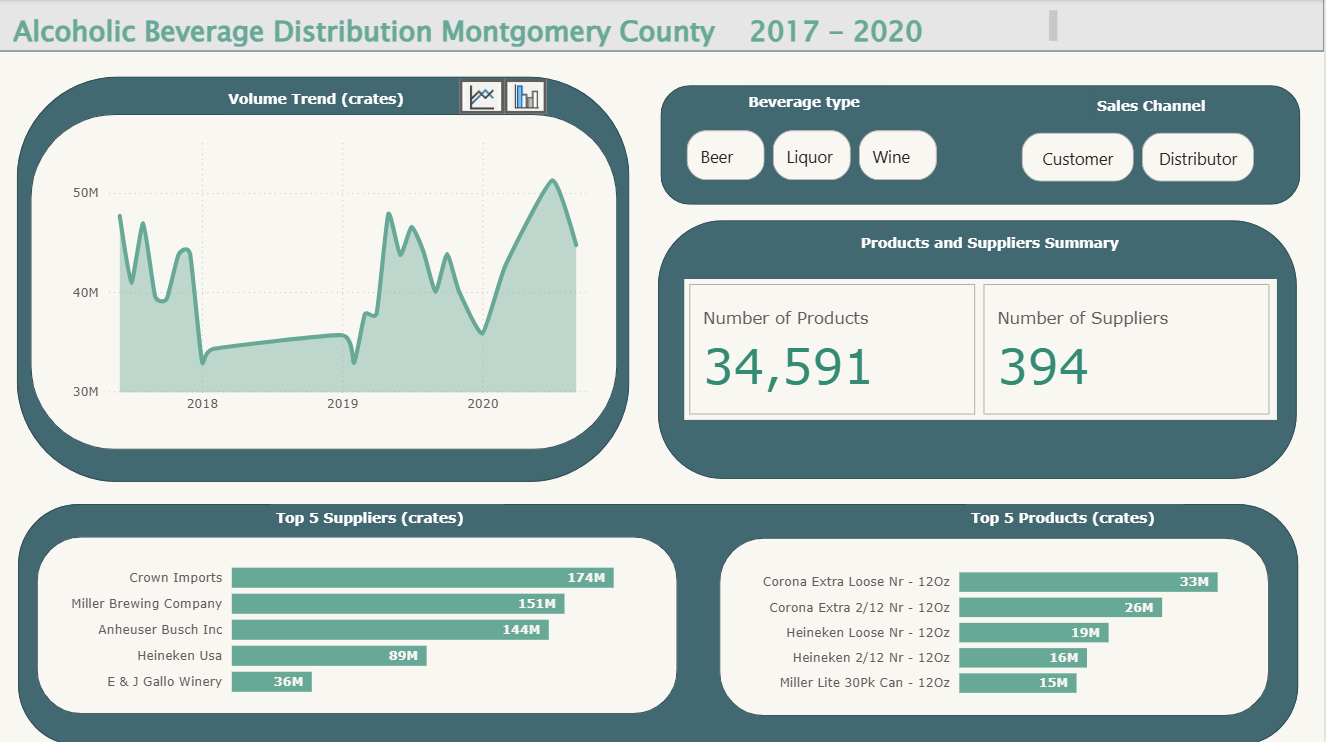

What the dashboard file says about the page in this screenshot:
{"tool":"powerbi","page":{"name":"Overview","canvas":[1280,720],"ordinal":0},"visuals":[{"type":"shape","box":[0,43.9,1280.3,12.3],"z":0},{"type":"shape","box":[18.1,75.1,591.5,391.5],"z":0,"group":"g6"},{"type":"shape","box":[640,83.5,617.5,115.3],"z":0,"group":"g8"},{"type":"shape","box":[31.9,111.7,566.3,324.2],"z":0,"group":"g3"},{"type":"group","id":"g1","title":"Group 6","box":[18.7,486.8,1235.7,233.2],"z":0,"group":"g7"},{"type":"shape","box":[18.7,486.8,1235.7,233.2],"z":0,"group":"g1"},{"type":"shape","box":[37.2,518.3,618.5,171.5],"z":0,"group":"g4"},{"type":"group","id":"g2","title":"Group 2","box":[695.6,518.9,530.7,172.2],"z":0,"group":"g5"},{"type":"shape","box":[695.6,518.9,530.7,172.2],"z":0,"group":"g2"},{"type":"shape","box":[0,0,1280.3,50.8],"z":1000},{"type":"group","id":"g3","title":"Group 3","box":[31.9,111.7,566.3,324.2],"z":1000,"group":"g6"},{"type":"advancedSlicerVisual","fields":{"Values":["Warehouse_and_Retail_Sales.Item Type"]},"box":[660.9,121.8,253.2,58.4],"z":1000,"group":"g8"},{"type":"stackedAreaChart","fields":{"Category":["DateTable.Date.Variation.Date Hierarchy.Year"],"Y":["Sum(Unified Sales.Quantity)"]},"box":[61.3,126.1,524.5,296.3],"z":1000,"group":"g3"},{"type":"group","id":"g4","title":"Group 1","box":[37.2,518.3,618.5,171.5],"z":1000,"group":"g1"},{"type":"clusteredBarChart","fields":{"Category":["Warehouse_and_Retail_Sales.Item Name"],"Y":["Sum(Unified Sales.Quantity)"]},"box":[712,530.2,507.8,154.4],"z":1000,"group":"g7"},{"type":"textbox","box":[9.6,5.5,1018.2,45.3],"z":2000},{"type":"advancedSlicerVisual","fields":{"Values":["Unified Sales.SalesType"]},"box":[983.5,124,234.6,57.6],"z":2000,"group":"g8"},{"type":"group","id":"g5","title":"Group 5","box":[695.6,518.9,530.7,172.2],"z":2000,"group":"g1"},{"type":"textbox","box":[720,86,139.9,36.2],"z":3000,"group":"g8"},{"type":"shape","box":[637,213.5,616.5,249.7],"z":3000},{"type":"group","id":"g6","title":"Group 4","box":[18.1,75.1,591.5,391.5],"z":4000},{"type":"textbox","box":[1056.4,89.8,121,26.4],"z":4000,"group":"g8"},{"type":"actionButton","box":[445.2,77.2,43.4,33.8],"z":5000},{"type":"actionButton","box":[488.6,77.2,41,33.8],"z":6000},{"type":"group","id":"g7","title":"Group 7","box":[18.7,486.8,1235.7,233.2],"z":7000},{"type":"clusteredBarChart","fields":{"Category":["Warehouse_and_Retail_Sales.Supplier"],"Y":["Sum(Unified Sales.Quantity)"]},"box":[45.9,525.9,599.7,158.6],"z":8000},{"type":"textbox","box":[263,487,225.4,30.6],"z":10000},{"type":"textbox","box":[933.6,487,210.1,32],"z":11000},{"type":"textbox","box":[217.2,83.2,191.8,27.7],"z":12000},{"type":"group","id":"g8","title":"Group 8","box":[640,83.5,617.5,115.3],"z":13000},{"type":"cardVisual","fields":{"Data":["Measures (2).Products Card","Measures (2).Suppliers Card"]},"box":[662.3,270.2,571.9,136.3],"z":14000},{"type":"textbox","box":[827.6,222,276.3,36.2],"z":15000}]}

Visuals, with their boxes in screenshot pixels (x1, y1, x2, y2), scaled from the page's 1280x720 canvas onto the 1326x742 screenshot:
shape: region(0, 45, 1325, 58)
shape: region(19, 77, 632, 481)
shape: region(663, 86, 1303, 205)
shape: region(33, 115, 620, 449)
"Group 6" group: region(19, 502, 1299, 741)
shape: region(19, 502, 1299, 741)
shape: region(39, 534, 679, 711)
"Group 2" group: region(721, 535, 1270, 712)
shape: region(721, 535, 1270, 712)
shape: region(0, 0, 1325, 52)
"Group 3" group: region(33, 115, 620, 449)
advancedSlicerVisual - Warehouse_and_Retail_Sales.Item Type: region(685, 126, 947, 186)
stackedAreaChart - DateTable.Date.Variation.Date Hierarchy.Year x Sum(Unified Sales.Quantity): region(64, 130, 607, 435)
"Group 1" group: region(39, 534, 679, 711)
clusteredBarChart - Warehouse_and_Retail_Sales.Item Name x Sum(Unified Sales.Quantity): region(738, 546, 1264, 706)
textbox: region(10, 6, 1065, 52)
advancedSlicerVisual - Unified Sales.SalesType: region(1019, 128, 1262, 187)
"Group 5" group: region(721, 535, 1270, 712)
textbox: region(746, 89, 891, 126)
shape: region(660, 220, 1299, 477)
"Group 4" group: region(19, 77, 632, 481)
textbox: region(1094, 93, 1220, 120)
actionButton: region(461, 80, 506, 114)
actionButton: region(506, 80, 549, 114)
"Group 7" group: region(19, 502, 1299, 741)
clusteredBarChart - Warehouse_and_Retail_Sales.Supplier x Sum(Unified Sales.Quantity): region(48, 542, 669, 705)
textbox: region(272, 502, 506, 533)
textbox: region(967, 502, 1185, 535)
textbox: region(225, 86, 424, 114)
"Group 8" group: region(663, 86, 1303, 205)
cardVisual - Measures (2).Products Card x Measures (2).Suppliers Card: region(686, 278, 1279, 419)
textbox: region(857, 229, 1144, 266)
